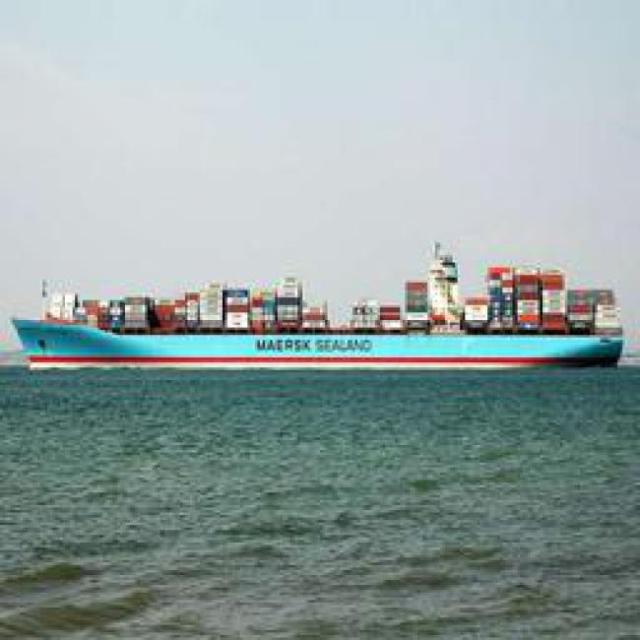boat: (13, 277, 629, 374)
